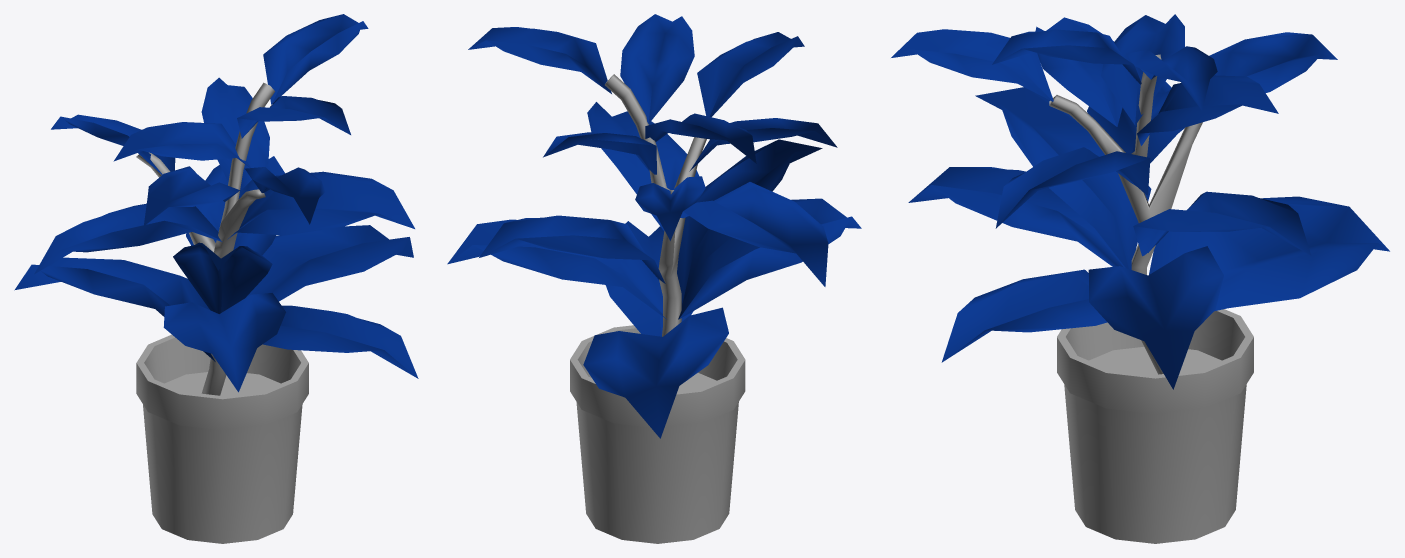
File: plant.fbx
3 renders of one model, left to right at view 1: azimuth 30°, elevation 25°; view 2: azimuth 150°, elevation 25°; view 3: azimuth 270°, elevation 25°, orthographic. The views are drawn at different scales.
Visible parts, largest first — view 1: plant; view 2: plant; view 3: plant.
Boxes of the visible parts, box(x1,y1,x2,y2) form: plant: box(14, 14, 418, 543); plant: box(447, 14, 861, 543); plant: box(891, 14, 1389, 543).
Bounding box in the file's own units: 83.16 × 95.08 × 83.8.
